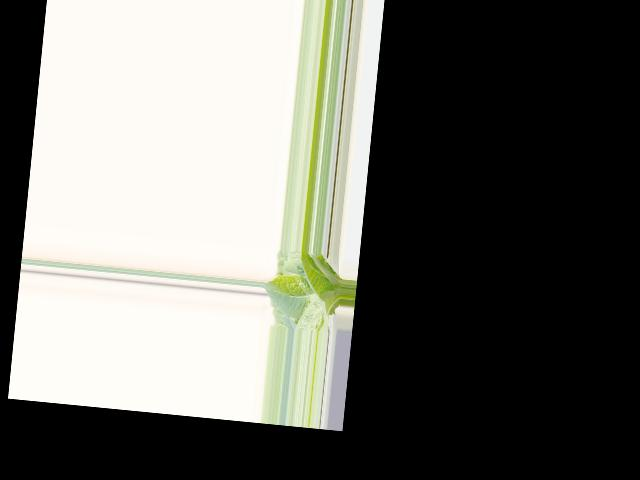lettuce: (267, 250, 344, 325)
